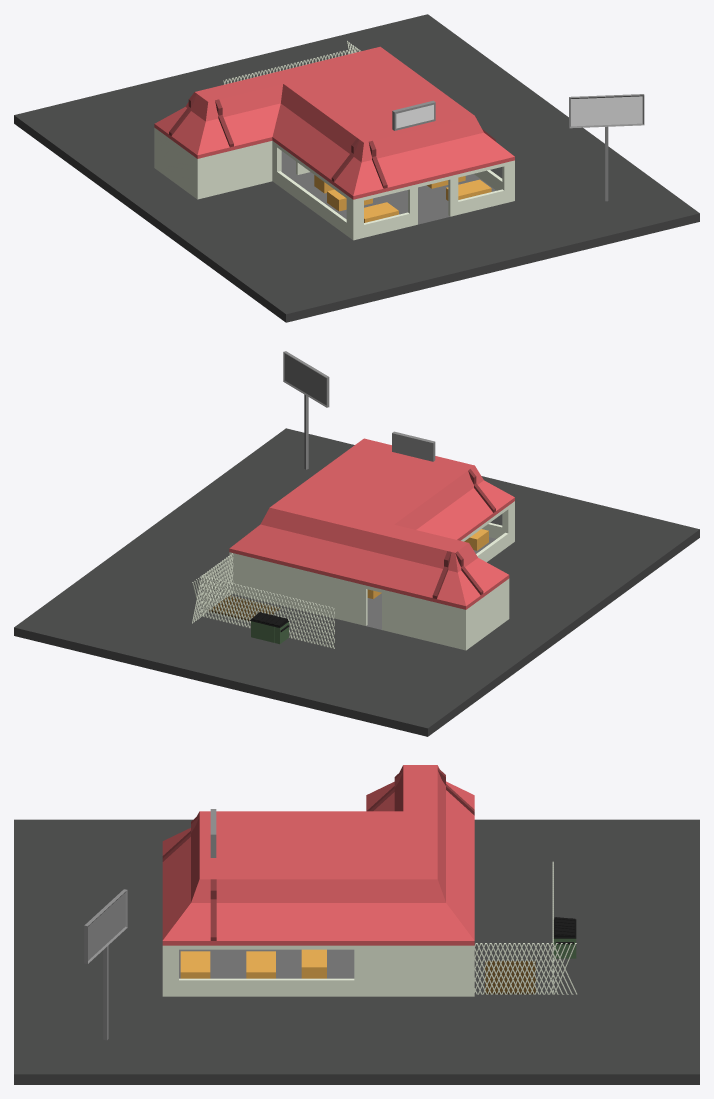
File: restaurant_furnishing4.glb
3 views of the same model, one above another, from view 1: azimuth 30°, elevation 25°; view 2: azimuth 150°, elevation 25°; view 3: azimuth 270°, elevation 25° (orthographic). The views are drawn at different scales.
Visible parts, largest first — view 1: ground, roof, front_wall, manager_front, billboard, floor, left_wall, managaer_side, table2, Cube, back_fence, table; view 2: ground, roof, back_wall, back_fence, manager_back, billboard, managaer_side, back_fence.001, Cube, left_wall, stock_platform, front_indents.001; view 3: ground, roof, right_wall, back_fence.001, floor, billboard, stock_platform, table2, table, order_counter, lid.001.
Part boxes in pixels (x1,y1,x2,y2): ground: (14, 14, 699, 322); roof: (154, 46, 514, 199); front_wall: (351, 160, 514, 240); manager_front: (195, 141, 272, 199); billboard: (569, 94, 644, 201); floor: (281, 151, 496, 224); left_wall: (272, 141, 351, 238); managaer_side: (156, 129, 195, 197); table2: (364, 179, 491, 222); Cube: (392, 100, 435, 130); back_fence: (223, 47, 356, 84); table: (327, 176, 465, 211); ground: (14, 428, 699, 736); roof: (229, 438, 514, 609); back_wall: (229, 552, 391, 631); back_fence: (201, 575, 334, 648); manager_back: (391, 591, 467, 650); billboard: (283, 351, 329, 469); managaer_side: (468, 580, 507, 648); back_fence.001: (192, 553, 233, 623); Cube: (392, 431, 435, 461); left_wall: (461, 503, 512, 562); stock_platform: (209, 595, 279, 621); front_indents.001: (251, 621, 288, 644); ground: (14, 819, 699, 1084); roof: (162, 765, 474, 945); right_wall: (167, 945, 469, 996); back_fence.001: (474, 943, 577, 994); floor: (179, 949, 354, 978); billboard: (84, 889, 127, 1040); stock_platform: (485, 961, 535, 994); table2: (180, 951, 210, 978); table: (246, 951, 275, 978); order_counter: (301, 949, 326, 978); lid.001: (553, 917, 576, 938).
Bounding box in the file's own units: 46.43 × 12.1 × 52.87.
Materials: 26 (12 with a texture image).
